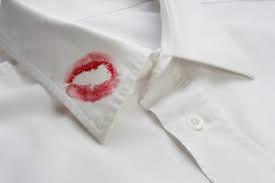kimchi: (58, 55, 118, 107)
